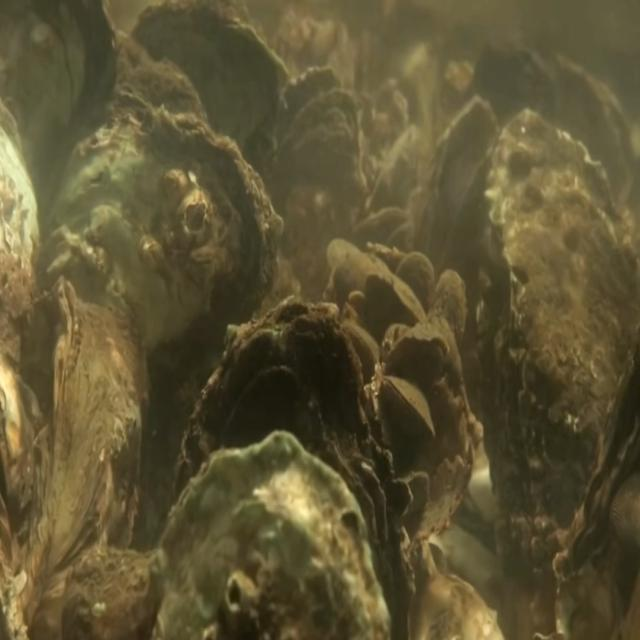Oyster-Closed: (50, 104, 284, 518), (181, 298, 412, 640), (475, 108, 635, 551), (151, 428, 390, 640), (381, 374, 435, 437), (388, 333, 450, 381)
Oyster-Indeterminate: (28, 274, 148, 640), (420, 96, 501, 327), (364, 269, 424, 323), (396, 251, 436, 323), (433, 268, 466, 343)
Oyster-Open: (263, 65, 360, 277)
